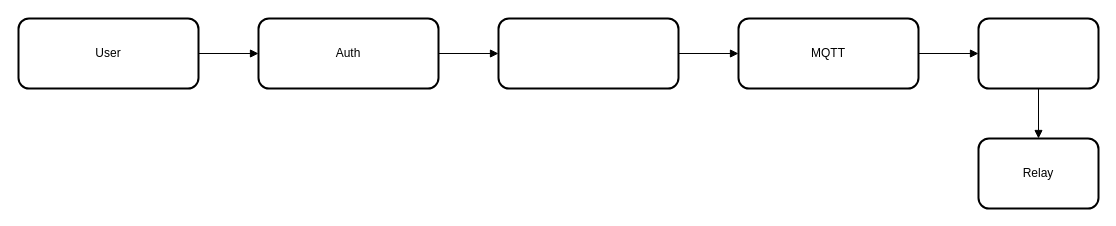
This 1116x226 diagram has some shape labels left out. The shapes that lost their labels are listed below. From the top down, each one's box as (x1, y1, x2, y2) in pixels, then its label:
(497, 17, 679, 89): Authorization
(977, 17, 1099, 89): ESP
